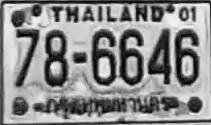4: (147, 28, 170, 84)
6: (174, 28, 198, 85), (118, 28, 142, 84), (91, 28, 115, 84)
7: (13, 28, 39, 86)
8: (44, 28, 68, 86)
BKK: (44, 93, 170, 116)
